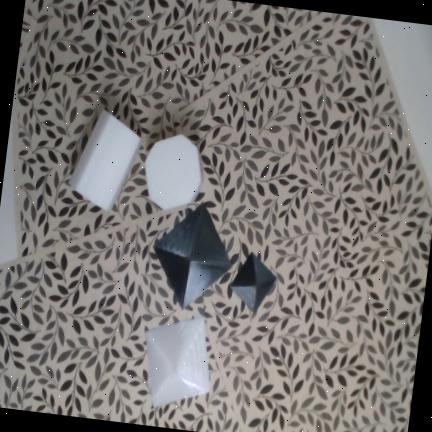Piramide: (153, 202, 231, 310), (146, 317, 209, 406), (229, 252, 276, 312)
Prisma_hexagonal: (68, 108, 142, 211), (144, 133, 203, 210)
